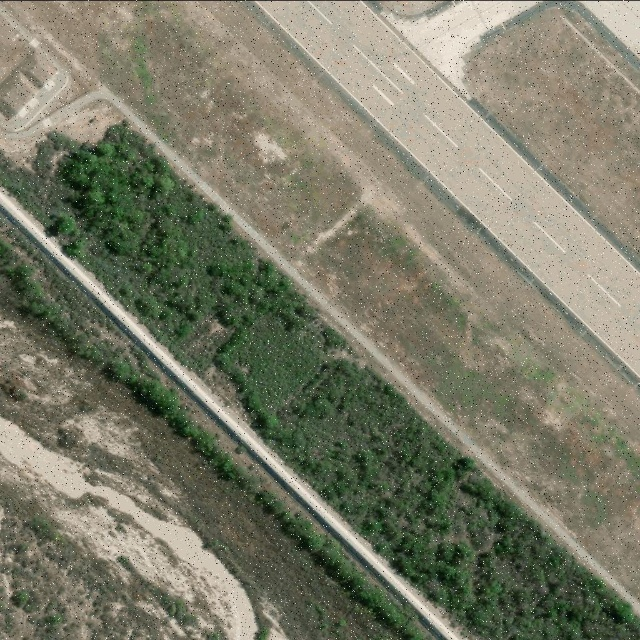vegetation: (0, 123, 640, 640), (0, 213, 431, 640), (10, 586, 68, 636)
